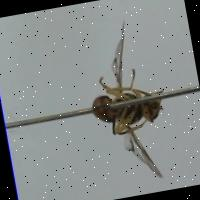Oriental-fruit-fly: (76, 8, 188, 194)
